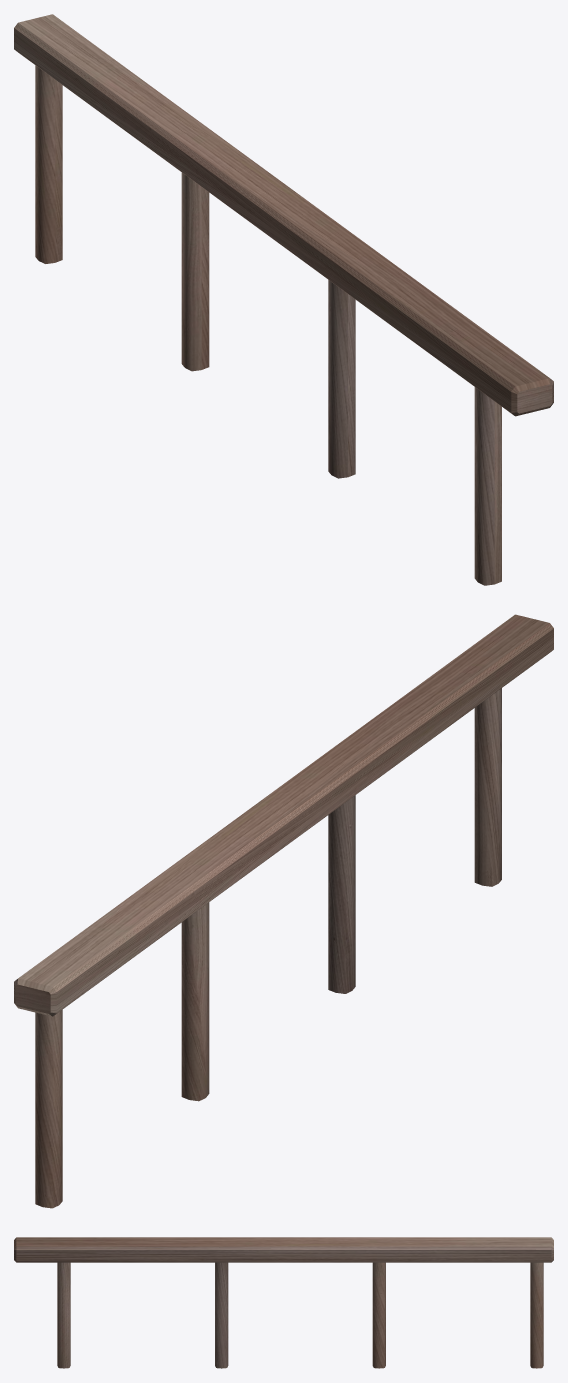
File: Railing.fbx
3 renders of one model, top to bottom at view 1: azimuth 30°, elevation 25°; view 2: azimuth 150°, elevation 25°; view 3: azimuth 270°, elevation 25°, orthographic. The views are drawn at different scales.
Visible parts, largest first — view 1: Cube; view 2: Cube; view 3: Cube.
Part boxes in pixels (x1,y1,x2,y2): Cube: [14, 14, 553, 585]; Cube: [14, 614, 553, 1208]; Cube: [14, 1237, 553, 1368].
Bounding box in the file's own units: 29.54 × 152 × 599.
